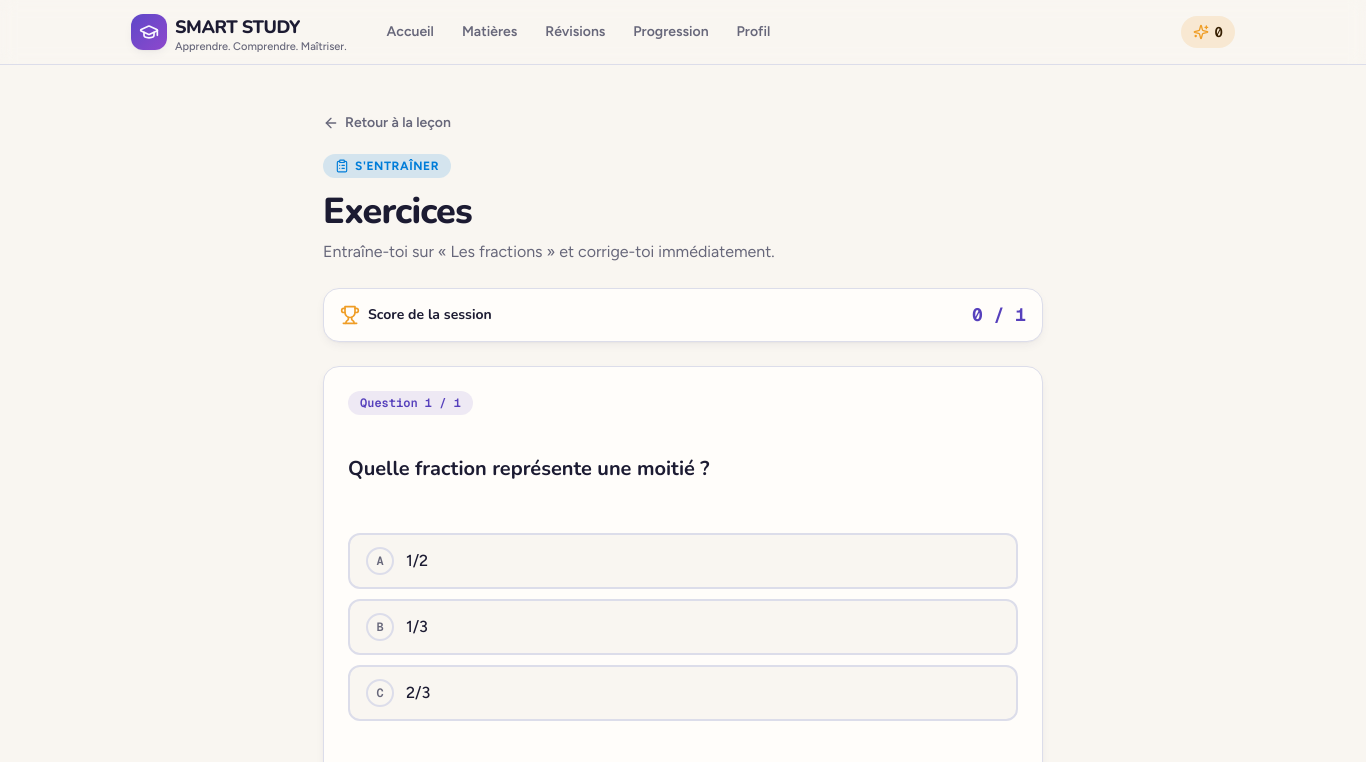
Test: PracticePage › accepts an answer and shows the explained correction
The width and height of the screenshot is (1366, 762).
Expected: the heading "Quelle fraction représente une moitié ?" is shown, [348,455,710,482]
Pick the wrong choice, then submit.
Click the radio button with test id "practice.choice.1.2". click: (380, 627)
box: [348,599,1018,655]
(page scrolled)
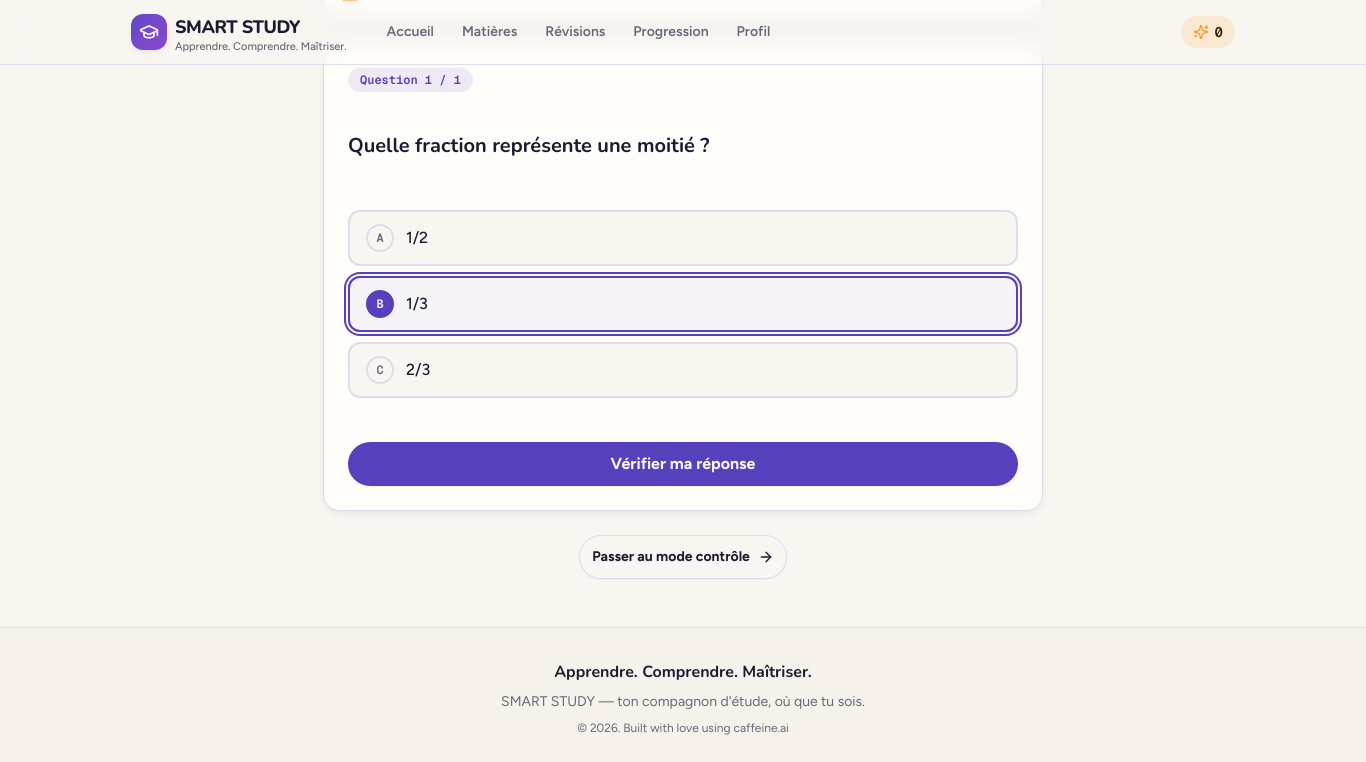
Click the button with test id "practice.submit_button.1". click: (683, 464)
box: [348,442,1018,486]
(page scrolled)
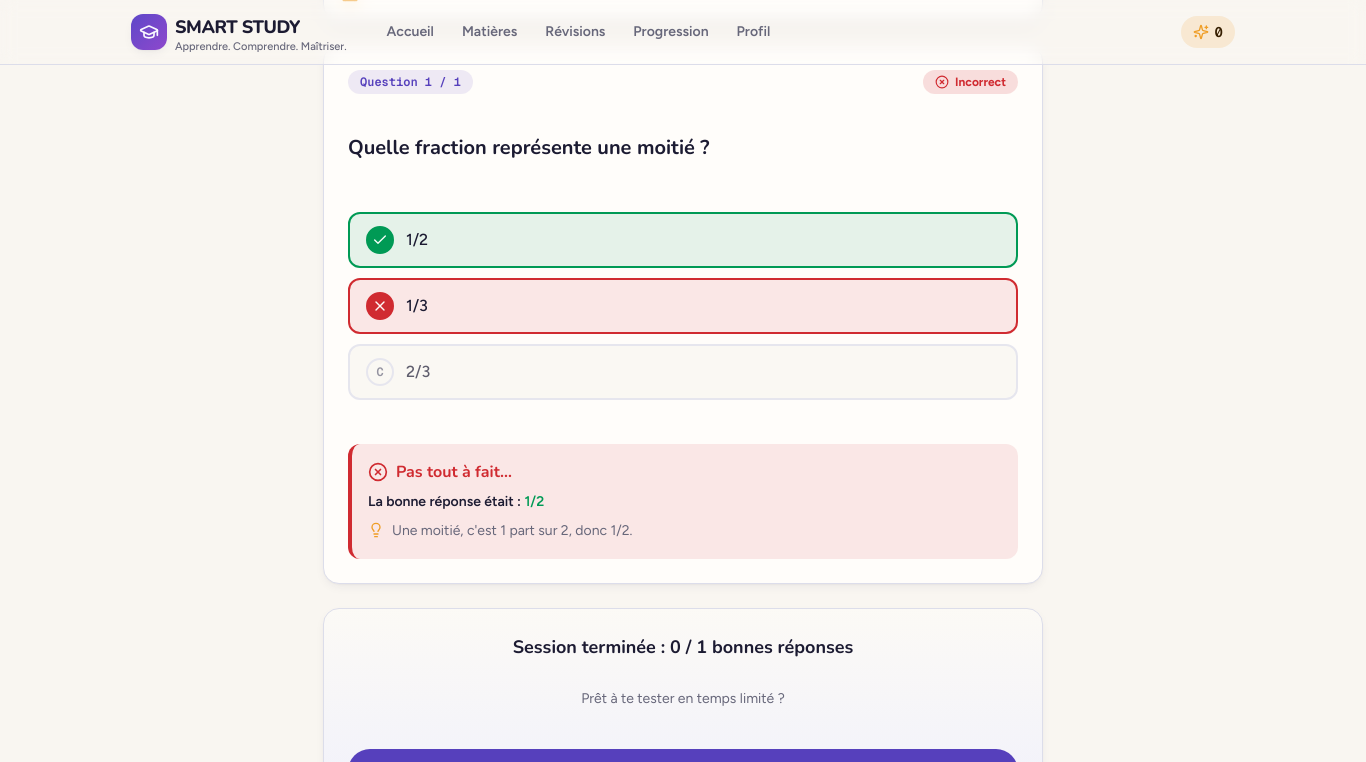
Result: the text "Pas tout à fait…" is shown at [368,461,512,483]
Result: the text "1/2" next to "La bonne réponse était :" is shown at [524,493,544,510]
Result: the text "Une moitié, c'est 1 part sur 2, donc 1/2." is shown at [392,520,632,543]
